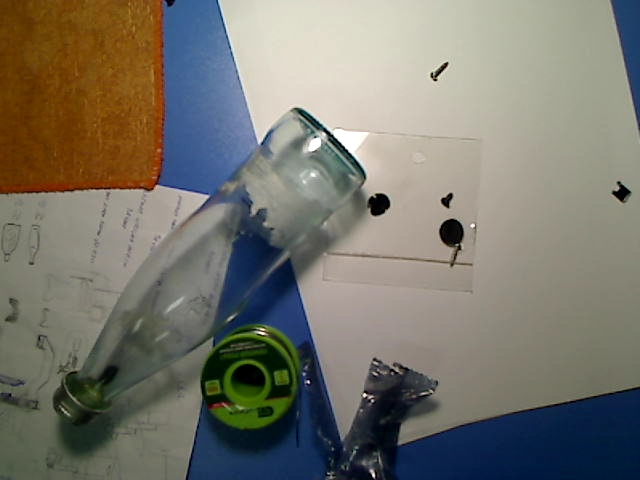bottle: (50, 107, 368, 429)
